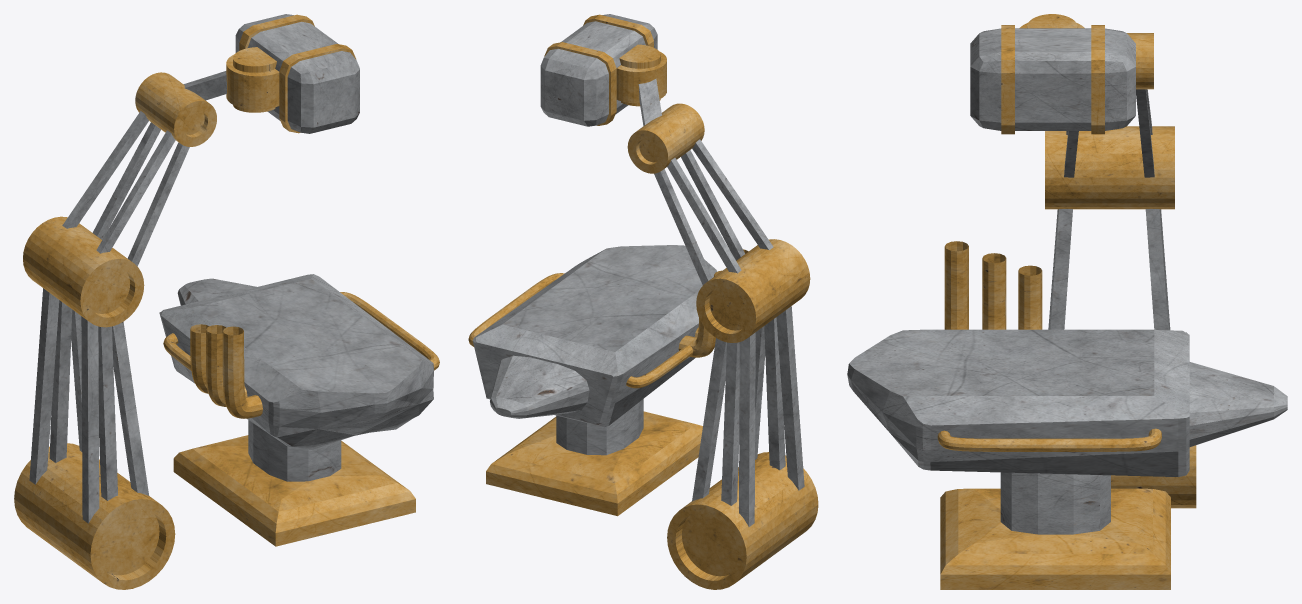
File: blast_furnace.fbx
3 views of the same model, side by side, from view 1: azimuth 30°, elevation 25°; view 2: azimuth 150°, elevation 25°; view 3: azimuth 270°, elevation 25° (orthographic). The views are drawn at different scales.
Parts seen in each view (by area): view 1: Cube, Cylinder, Cylinder.002, Cylinder.001; view 2: Cube, Cylinder, Cylinder.002, Cylinder.001; view 3: Cube, Cylinder.002, Cylinder, Cylinder.001.
Boxes of the visible parts, left/top/right/bottom form: Cube: left=159, top=274, right=439, bottom=546; Cylinder: left=14, top=216, right=175, bottom=589; Cylinder.002: left=183, top=14, right=359, bottom=133; Cylinder.001: left=62, top=72, right=216, bottom=266; Cube: left=468, top=245, right=748, bottom=516; Cylinder: left=667, top=239, right=818, bottom=589; Cylinder.002: left=540, top=14, right=666, bottom=126; Cylinder.001: left=627, top=103, right=773, bottom=285; Cube: left=847, top=241, right=1287, bottom=589; Cylinder.002: left=970, top=14, right=1135, bottom=134; Cylinder: left=1045, top=126, right=1196, bottom=508; Cylinder.001: left=1064, top=33, right=1154, bottom=177.
Size of the model in its own units: 128 by 190 by 135.
Materials: 4 (4 with a texture image).
